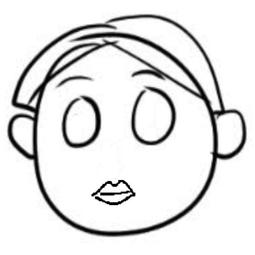cupid_mouth: (89, 175, 142, 212)
ear: (212, 108, 249, 166), (5, 113, 43, 163)
empty_eye: (130, 84, 176, 152), (59, 94, 110, 149)
eyebrow: (124, 64, 167, 84), (54, 74, 101, 88)
